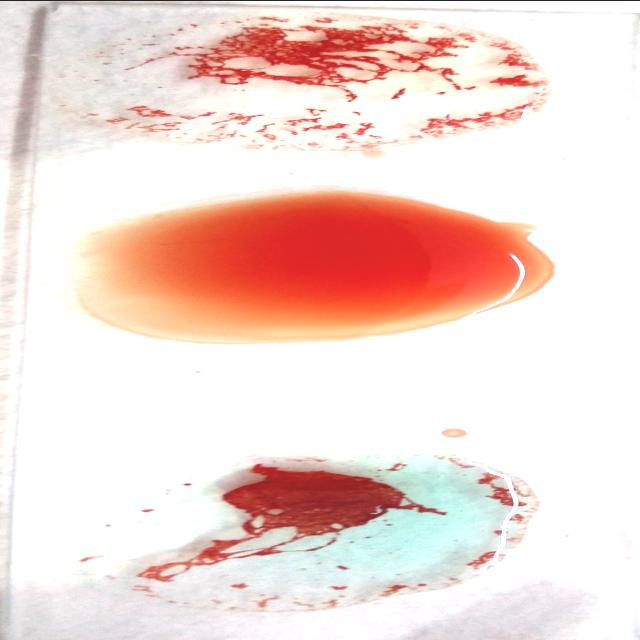A: (76, 454, 538, 608)
D: (80, 10, 556, 148)
